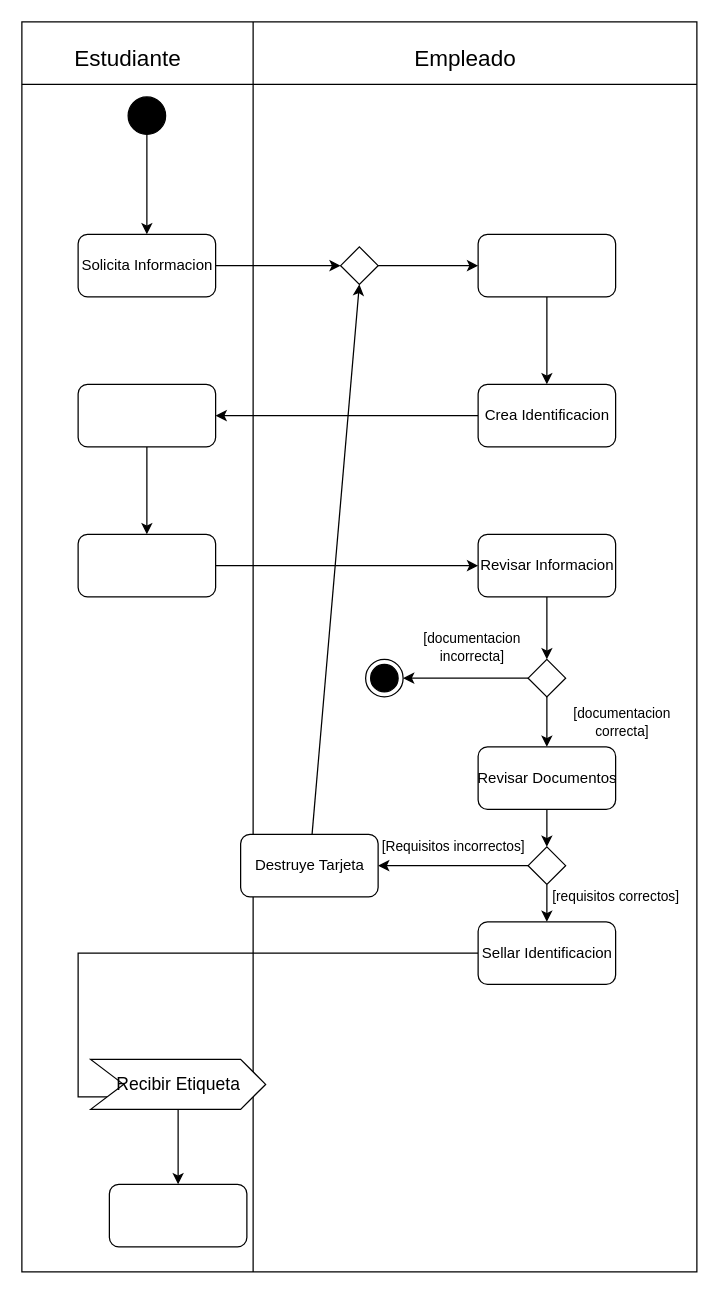
Some shapes in this 719 by 1294 pixel diagram are drawn without their labels. The shapes that lost their labels are listed below. From the top down, each one's centre as x and y in pixels, then its label:
pixel 546 265: Entregar Formularios
pixel 146 415: Llenar Formularios
pixel 146 565: Llenar Datos Personales
pixel 177 1215: Pegar Etiqueta
